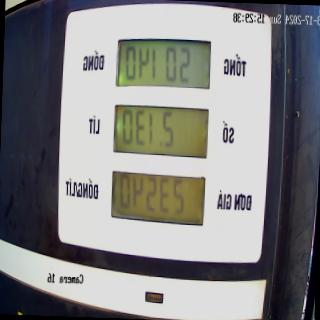screen: (109, 31, 214, 232)
